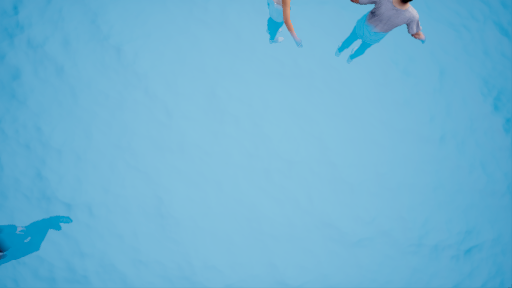person: (341, 1, 430, 71)
